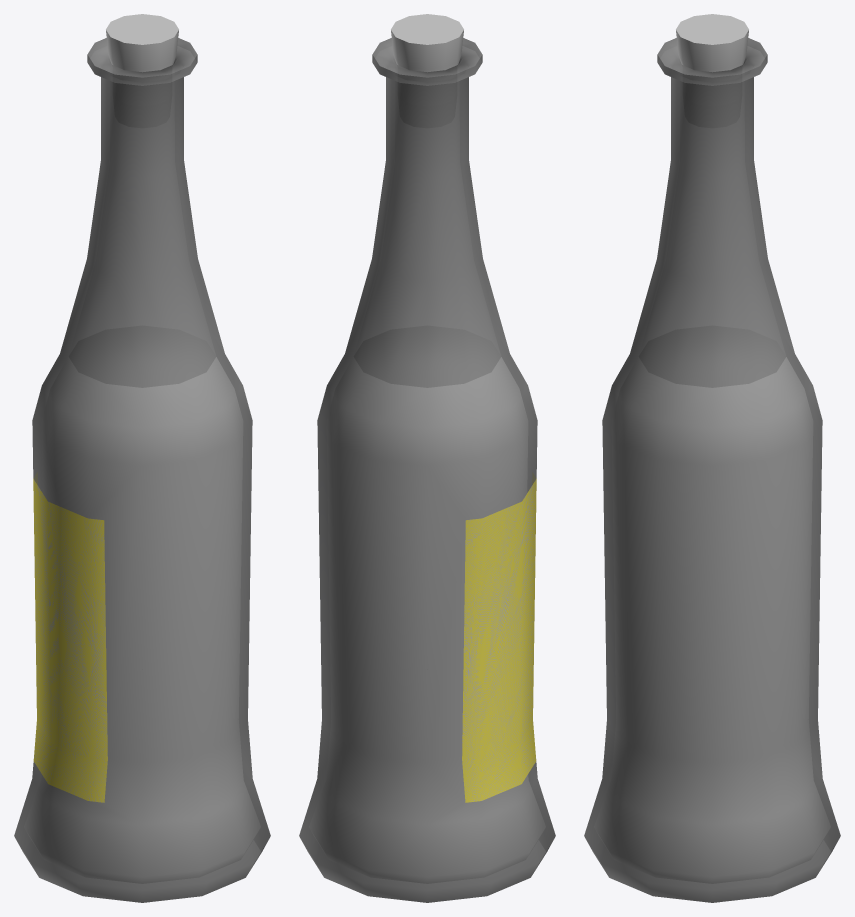
3 renders of one model, left to right at view 1: azimuth 30°, elevation 25°; view 2: azimuth 150°, elevation 25°; view 3: azimuth 270°, elevation 25°, orthographic.
Visible parts, largest first — view 1: mesh1_mesh1-geometry, mesh2_mesh2-geometry; view 2: mesh1_mesh1-geometry, mesh2_mesh2-geometry; view 3: mesh1_mesh1-geometry, mesh2_mesh2-geometry.
Part boxes in pixels (x1,y1,x2,y2): mesh1_mesh1-geometry: (14,38,270,902); mesh2_mesh2-geometry: (106,14,178,72); mesh1_mesh1-geometry: (299,38,555,902); mesh2_mesh2-geometry: (391,14,463,72); mesh1_mesh1-geometry: (584,38,840,902); mesh2_mesh2-geometry: (676,14,748,72).
Size of the model in its own units: 0.2626 by 0.9285 by 0.2626.
